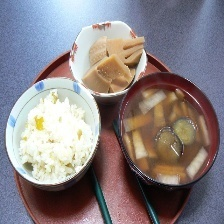rice: (14, 91, 95, 185)
